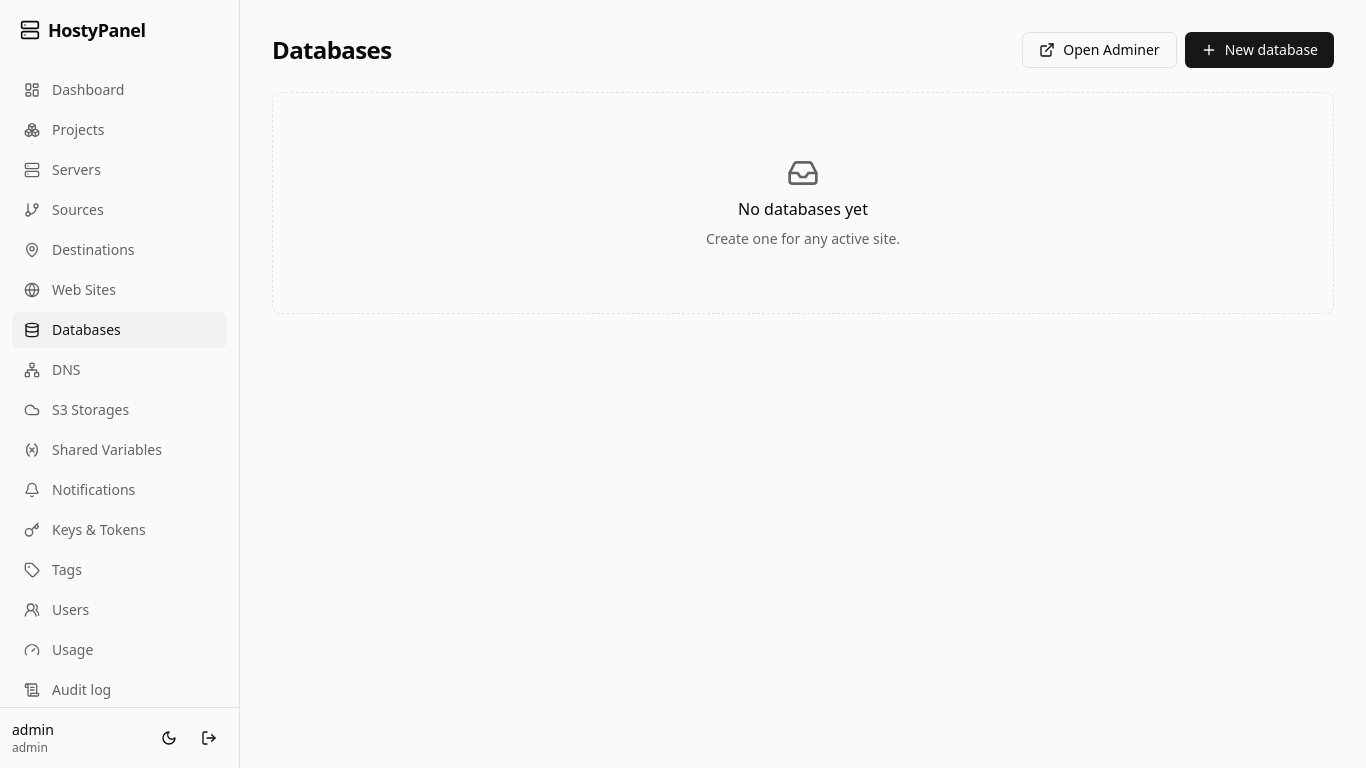
Test case: DatabasesPage › rejects invalid database names client-side
The width and height of the screenshot is (1366, 768).
Click the button "New database": (1259, 50) [1185,32,1334,68]
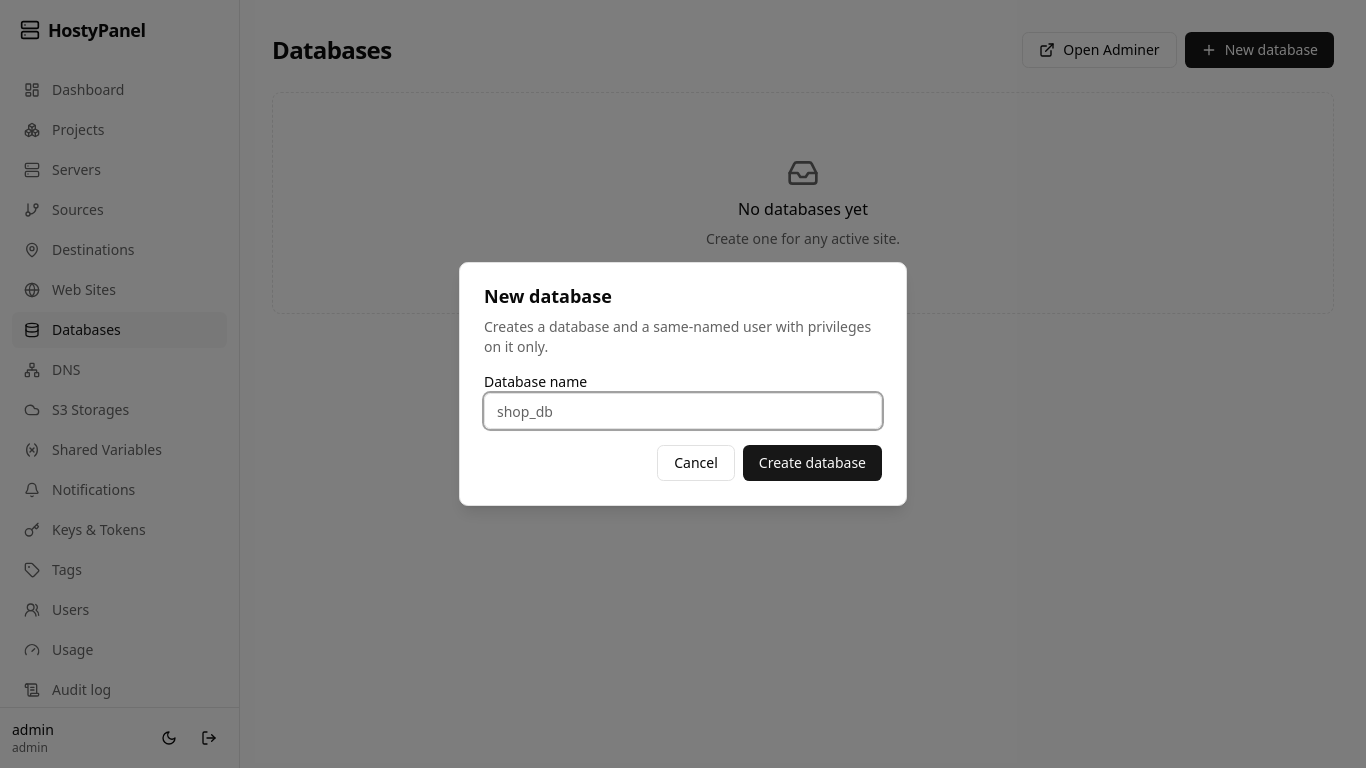
In the field labelled "Database name": (683, 411) [484,393,882,429], type "Bad-Name"
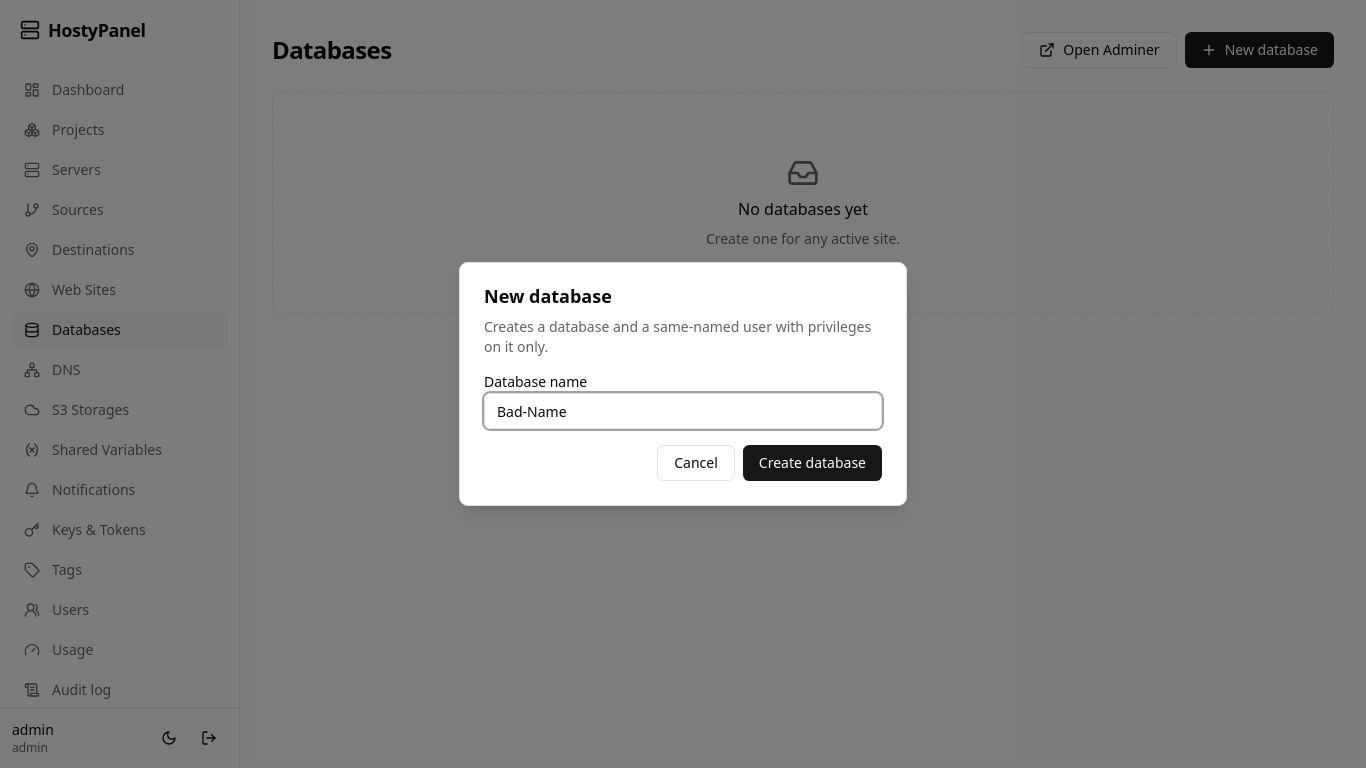
Click the button "Create database": (812, 463) [743,445,882,481]
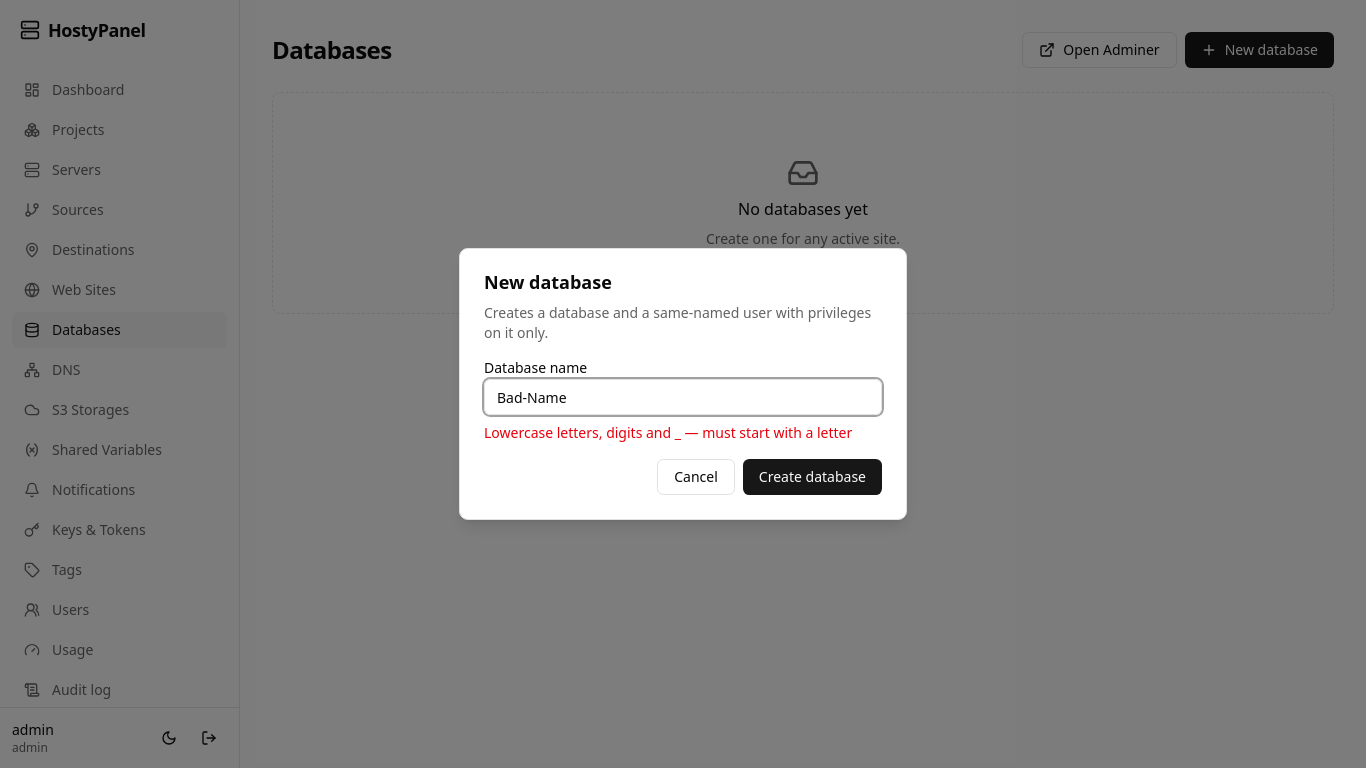
expect the text "Lowercase letters, digits and _ — must start with a letter" is shown: met, box [484,423,882,443]
